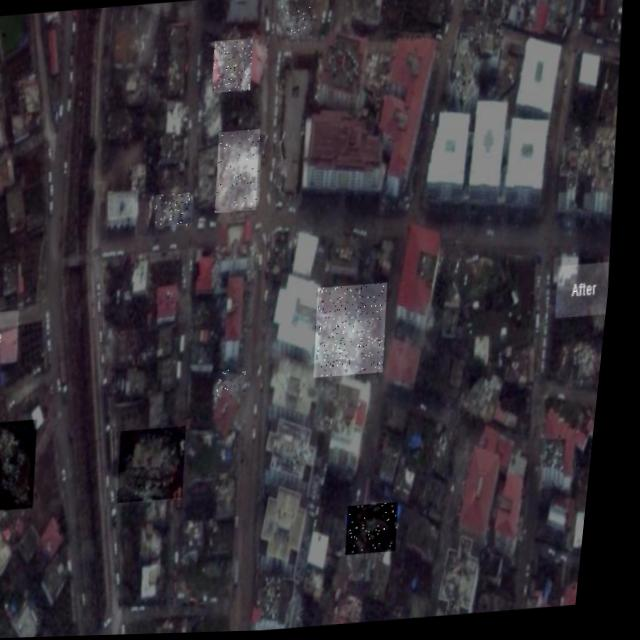Rubble: (317, 285, 398, 380), (124, 428, 199, 504), (0, 420, 52, 512), (216, 130, 269, 215), (355, 504, 411, 558), (212, 40, 257, 95), (273, 0, 315, 42), (157, 194, 200, 231), (220, 369, 255, 400)
